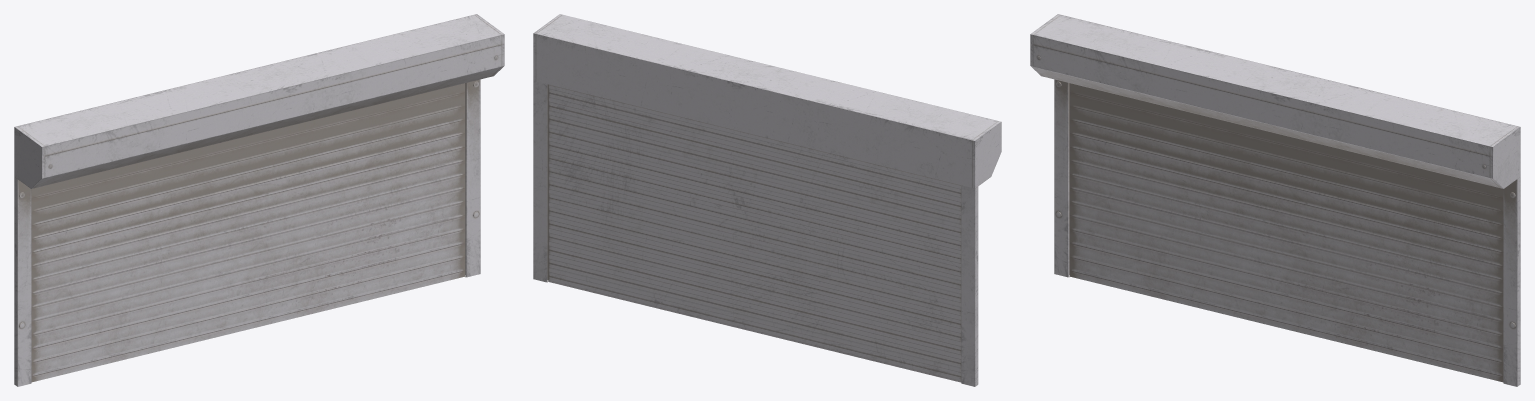
File: counter_part_open.gltf
3 views of the same model, side by side, from view 1: azimuth 30°, elevation 25°; view 2: azimuth 150°, elevation 25°; view 3: azimuth 330°, elevation 25° (orthographic). The views are drawn at different scales.
Visible parts, largest first — view 1: counter_shutter; view 2: counter_shutter; view 3: counter_shutter.
Boxes of the visible parts, x1,y1,x2,y2 form: counter_shutter: (14, 14, 504, 386); counter_shutter: (533, 14, 1001, 386); counter_shutter: (1030, 14, 1520, 386).
Bounding box in the file's own units: 1.6 × 0.8509 × 0.1681.
Materials: 1 (1 with a texture image).
